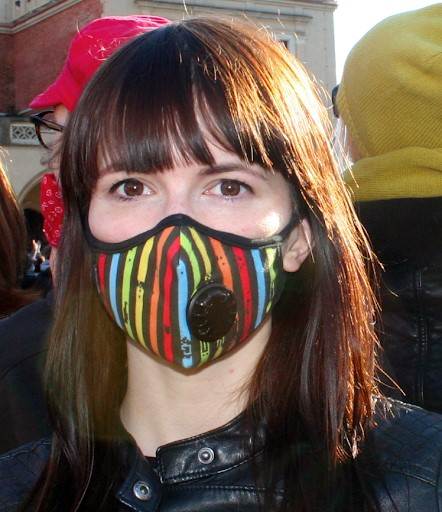face_with_mask: (63, 19, 330, 375)
